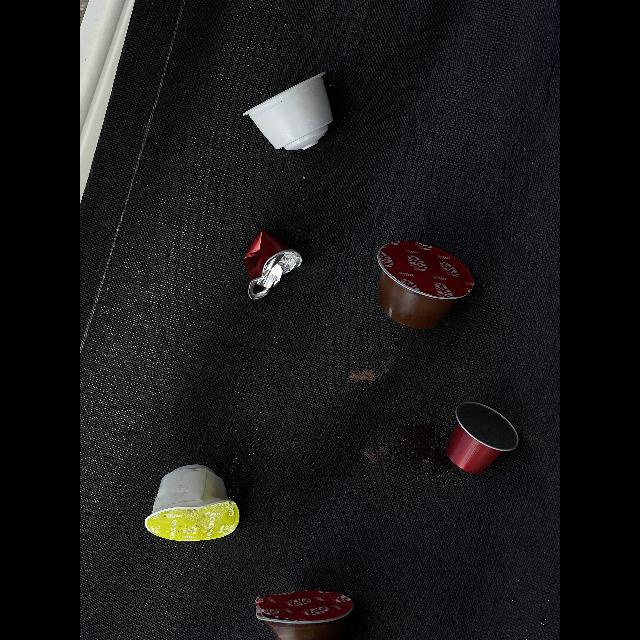damaged_capsule: (140, 461, 244, 547), (245, 582, 362, 640), (238, 226, 306, 304)
intact_capsule: (369, 228, 487, 334), (240, 65, 336, 168), (438, 396, 526, 479)
